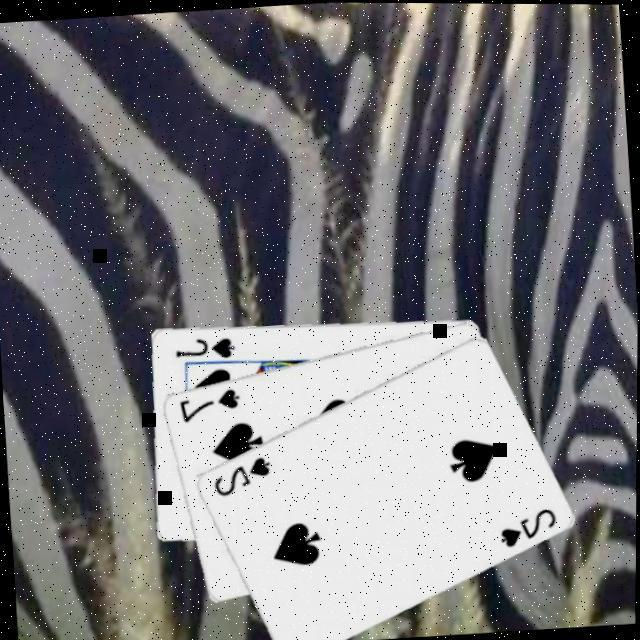2S: (495, 500, 562, 548), (209, 450, 276, 497)
7S: (176, 380, 244, 423)
JS: (172, 329, 239, 360)
